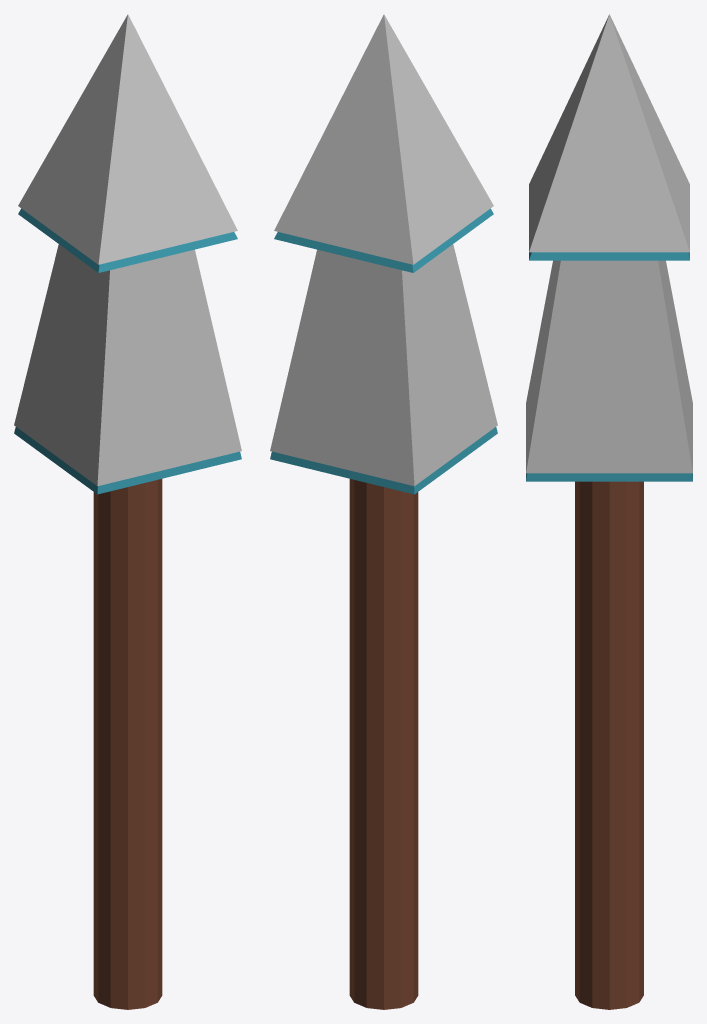
Rendered from Tree_16_winter_blue_vc.fbx.
The picture shows the model from 3 angles, left to right: view 1: azimuth 30°, elevation 25°; view 2: azimuth 150°, elevation 25°; view 3: azimuth 270°, elevation 25°; orthographic projection.
Parts seen in each view (by area): view 1: Tree_16_winter_blue_vc; view 2: Tree_16_winter_blue_vc; view 3: Tree_16_winter_blue_vc.
Boxes of the visible parts, x1,y1,x2,y2 form: Tree_16_winter_blue_vc: (14, 14, 241, 1009); Tree_16_winter_blue_vc: (270, 14, 497, 1009); Tree_16_winter_blue_vc: (526, 14, 692, 1009).
Bounding box in the file's own units: 53.67 × 348 × 53.67.
